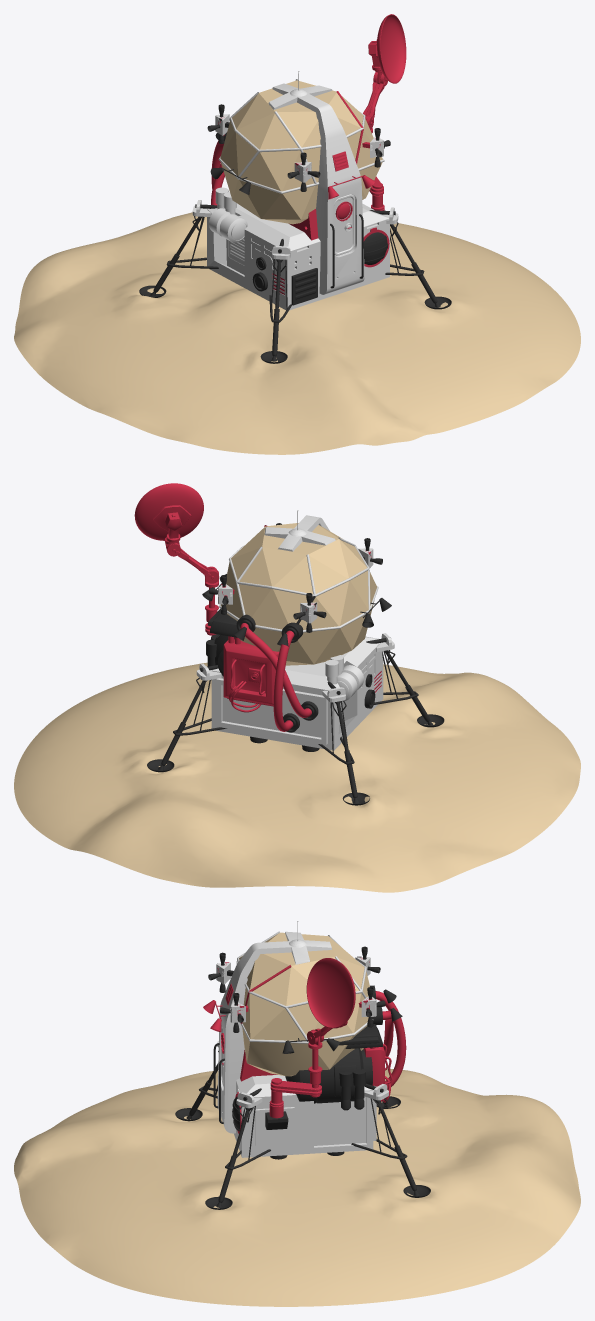
Rendered from Landing module.fbx.
3 renders of one model, top to bottom at view 1: azimuth 30°, elevation 25°; view 2: azimuth 150°, elevation 25°; view 3: azimuth 270°, elevation 25°, orthographic.
Visible parts, largest first — view 1: Top antena.001, Top antena; view 2: Top antena.001, Top antena; view 3: Top antena.001, Top antena.
Part boxes in pixels (bbox=[...]): Top antena.001: bbox=[14, 212, 580, 454]; Top antena: bbox=[139, 14, 451, 363]; Top antena.001: bbox=[14, 662, 580, 892]; Top antena: bbox=[134, 483, 444, 805]; Top antena.001: bbox=[14, 1069, 580, 1306]; Top antena: bbox=[175, 921, 430, 1209].
Bounding box in the file's own units: 85.84 × 48.04 × 86.95.
